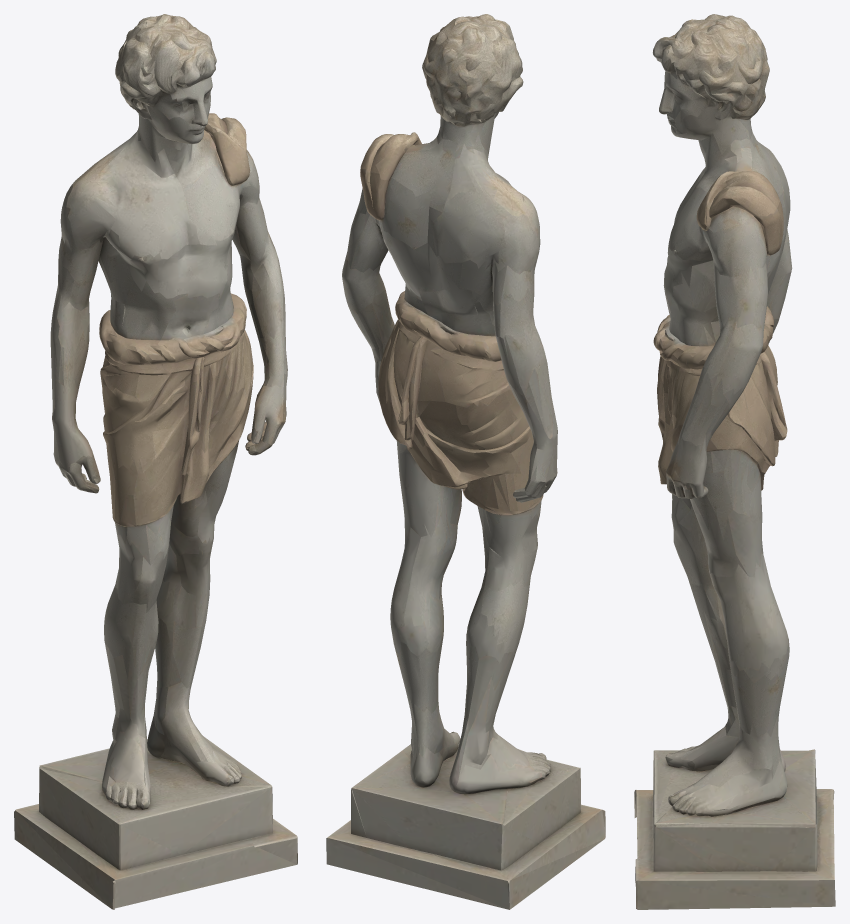
The model's file is statue-youth.glb.
3 renders of one model, left to right at view 1: azimuth 30°, elevation 25°; view 2: azimuth 150°, elevation 25°; view 3: azimuth 270°, elevation 25°, orthographic. The views are drawn at different scales.
Visible parts, largest first — view 1: statue-youth; view 2: statue-youth; view 3: statue-youth.
Boxes of the visible parts, <box> form: statue-youth: <box>14,14,297,909</box>; statue-youth: <box>326,14,605,909</box>; statue-youth: <box>634,14,835,909</box>.
Bounding box in the file's own units: 0.4743 × 1.75 × 0.3775.
1 material, 1 textured.
